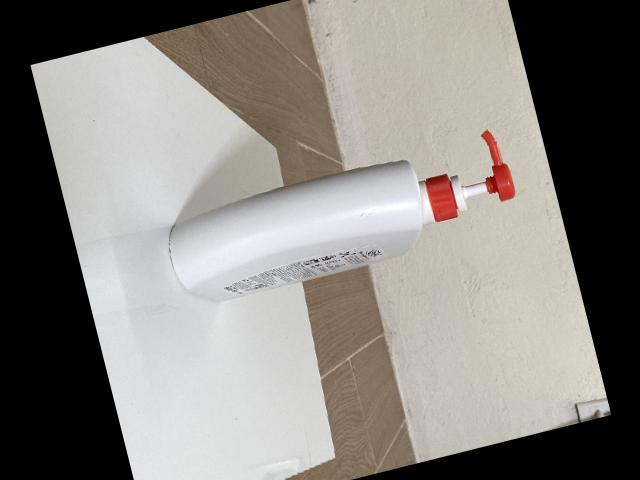life-buoy: (165, 130, 514, 304)
